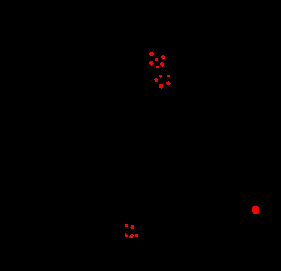Target: (252, 206, 259, 214), (149, 61, 154, 66), (149, 52, 154, 56), (160, 62, 164, 67), (166, 81, 171, 85), (159, 84, 163, 89), (129, 234, 134, 238), (161, 55, 165, 59), (154, 78, 158, 82), (130, 225, 134, 229), (125, 233, 128, 237), (155, 58, 158, 61), (159, 75, 162, 78), (125, 224, 128, 227), (135, 234, 138, 237), (156, 66, 159, 68), (167, 75, 170, 77)
